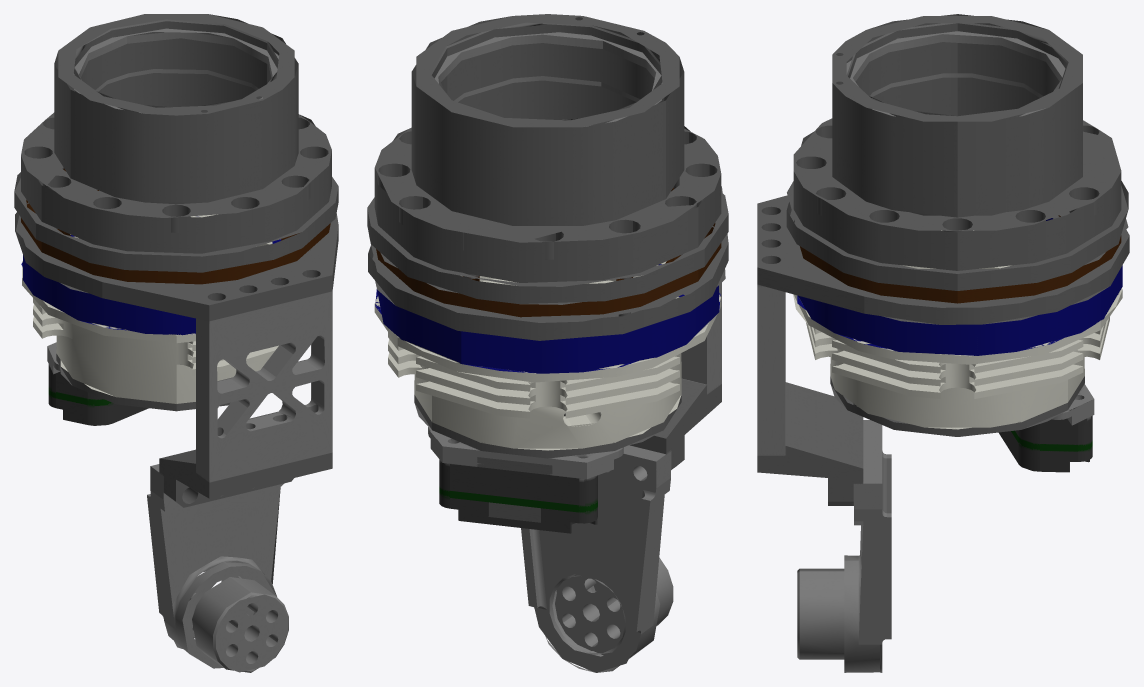
Rendered from armr_sho3_joint.obj.
The picture shows the model from 3 angles, left to right: view 1: azimuth 30°, elevation 25°; view 2: azimuth 150°, elevation 25°; view 3: azimuth 270°, elevation 25°; orthographic projection. The views are drawn at different scales.
Size of the model in its own units: 0.073 by 0.1401 by 0.079.
1 material, 1 textured.
